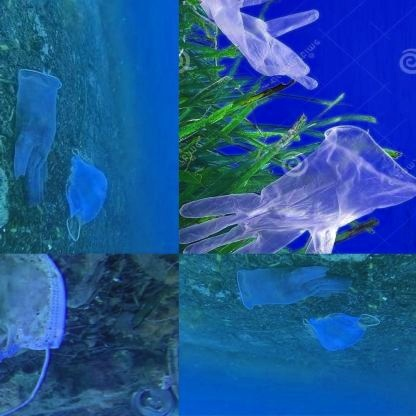Mask: (0, 254, 64, 416), (296, 309, 388, 365), (66, 148, 109, 242)
glove: (178, 124, 416, 253), (179, 0, 326, 102), (10, 71, 61, 213), (213, 262, 359, 308)
